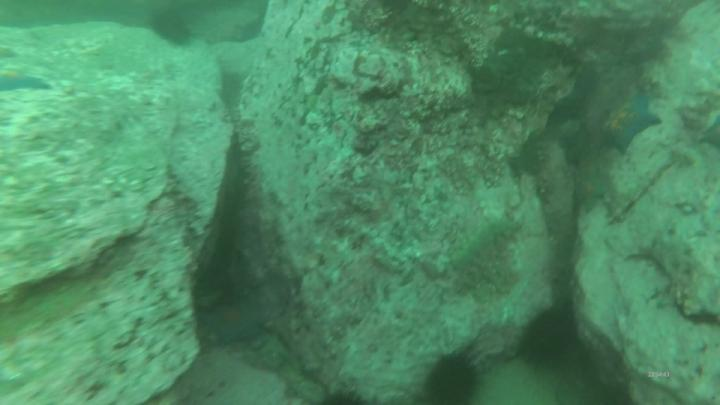echinus: (525, 309, 576, 364), (428, 356, 479, 404), (152, 15, 191, 45)
holothurian: (454, 219, 519, 270)
starfish: (601, 98, 660, 150), (198, 308, 264, 343), (576, 172, 606, 214), (1, 75, 53, 93)
